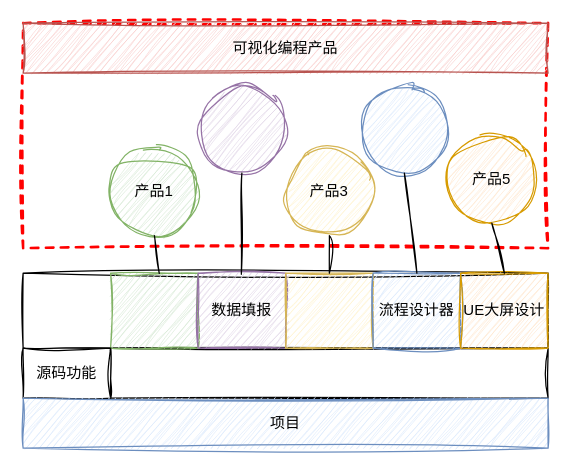
Image size: 570x470. Some labels were removed from this diagram. Each missing label, with the centre of its shape:
"GIS汇报演示" goes at (x=153, y=310).
"产品2" goes at (x=241, y=128).
"产品4" goes at (x=403, y=128).
"可视化功能" goes at (x=328, y=372).
"规则设计器" goes at (x=328, y=310).
